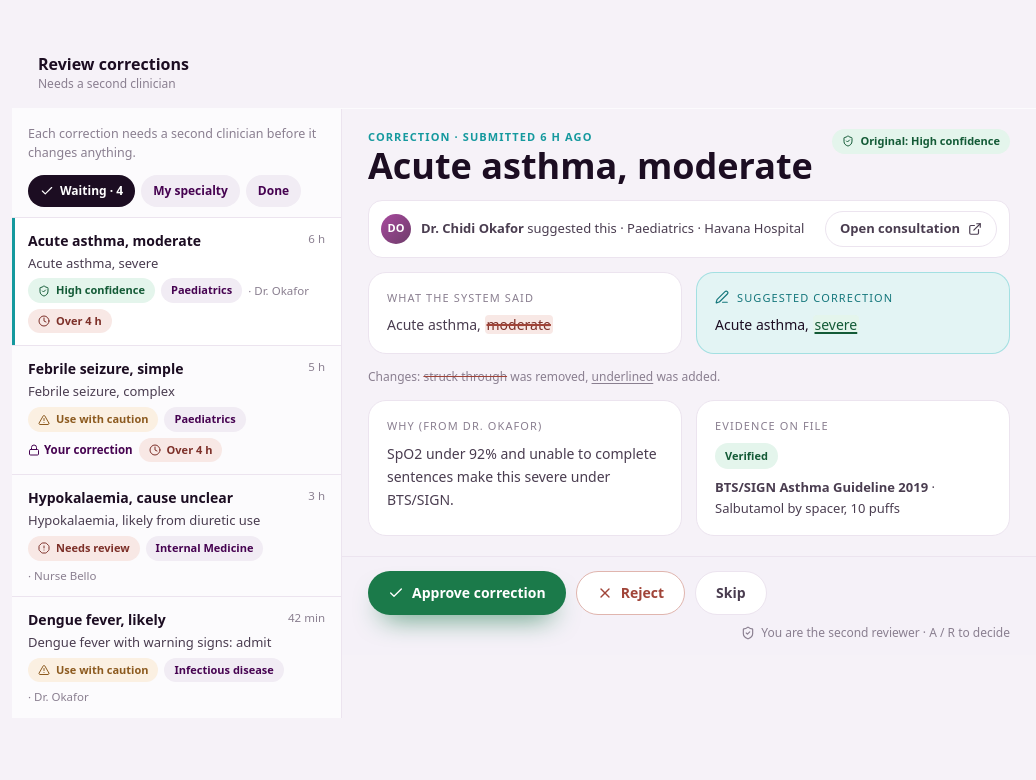
Test: ReviewView › Next correction on the notice sends it now and loads the next one
Click the button "Approve correction": (467, 593) 368,571 -> 566,615
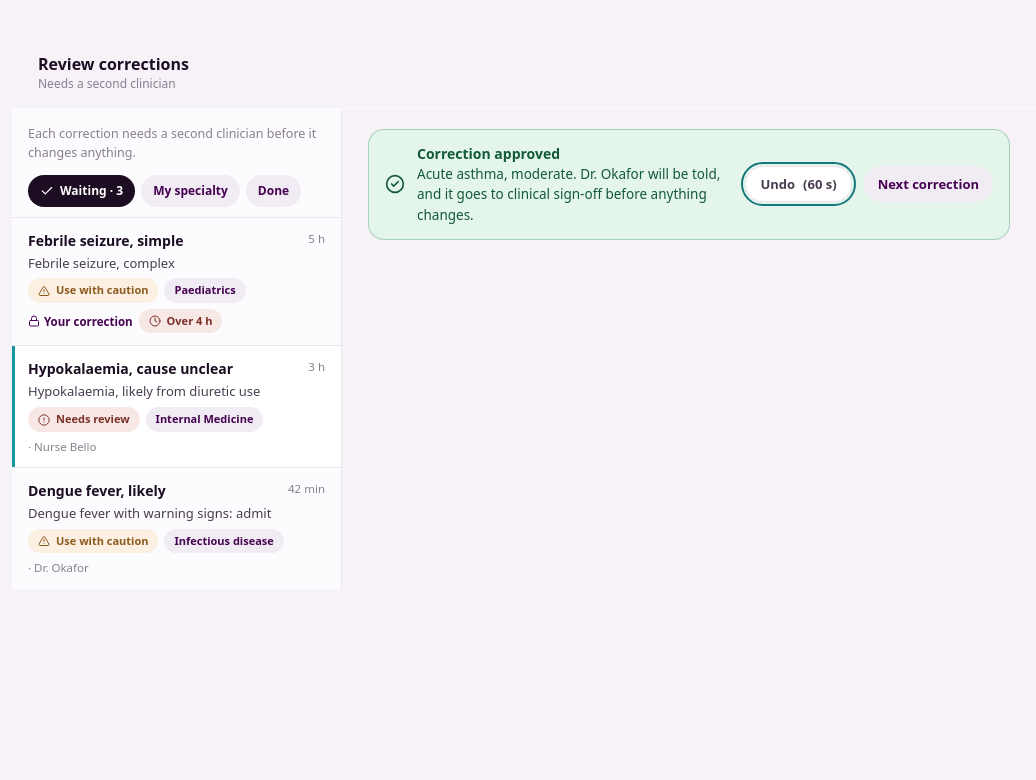
Click the button "Next correction": (928, 184) 864,166 -> 993,202
Wait 120000 ms
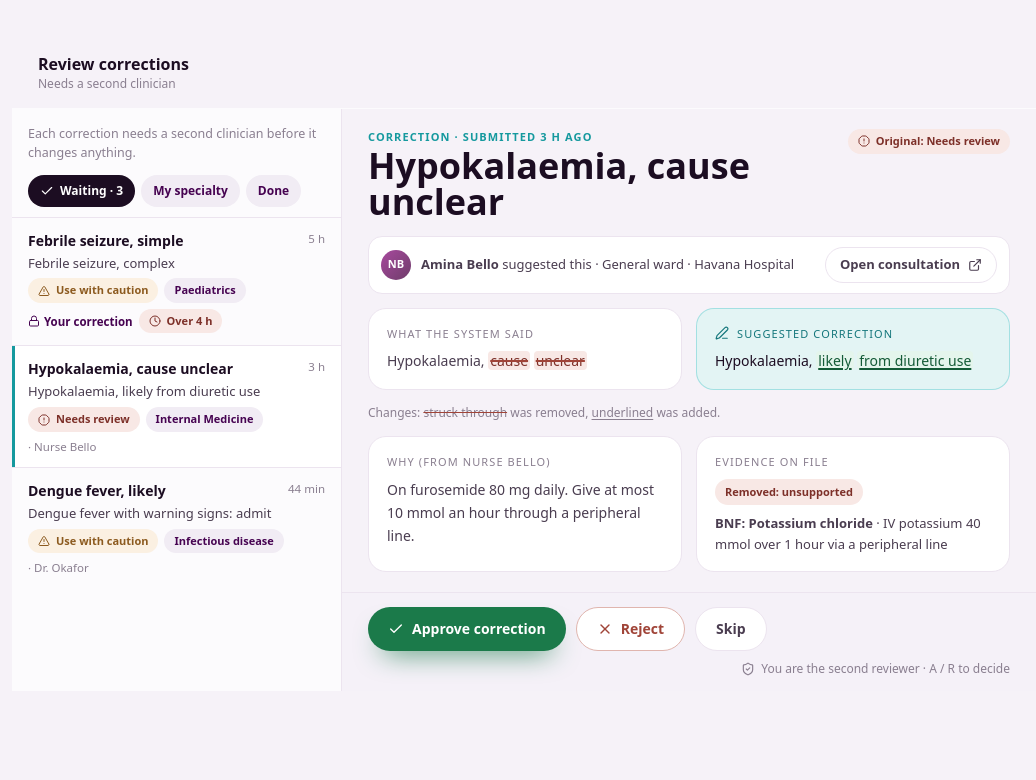
Check: the heading "Hypokalaemia, cause unclear" is shown, box 368,140 -> 750,226
Check: the text "Correction approved" is gone
